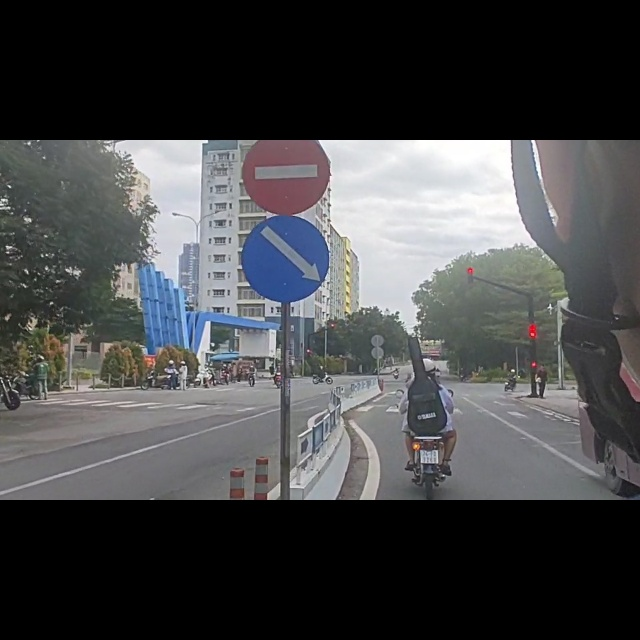bien_hieu_lenh: (238, 137, 334, 289), (239, 4, 333, 136)
